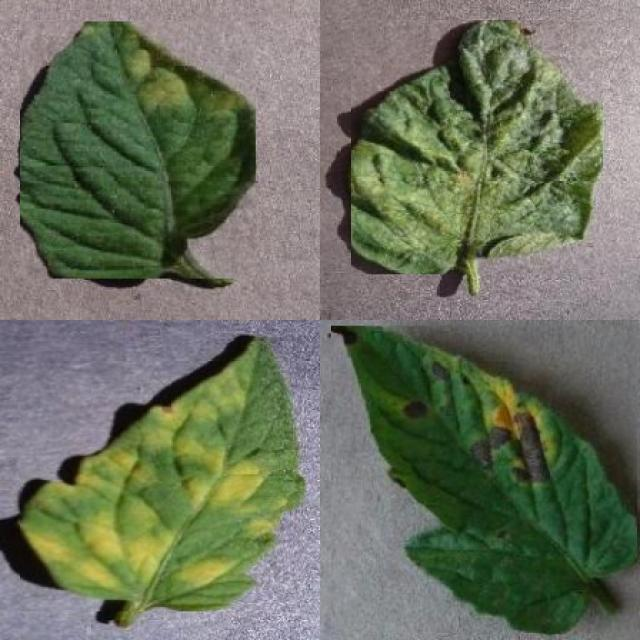Early Blight: (330, 325, 637, 635)
Leaf Mold: (21, 334, 306, 612), (20, 22, 256, 279)
Spider Mites: (350, 20, 603, 274)
